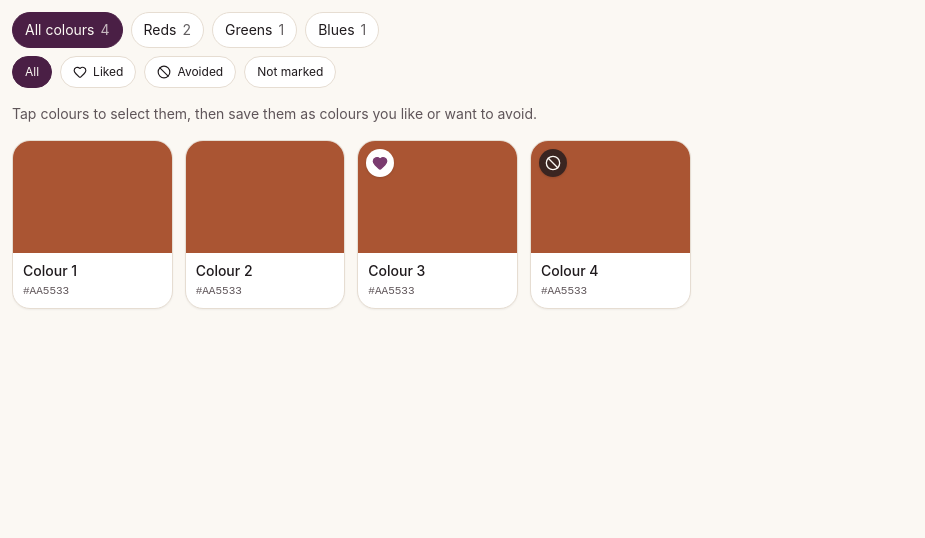
Test: ColourAlbum › shows the reasons when one colour is selected
Click the checkbox named "Colour 2,".
click(265, 224)  # box left=185, top=140, right=345, bottom=308
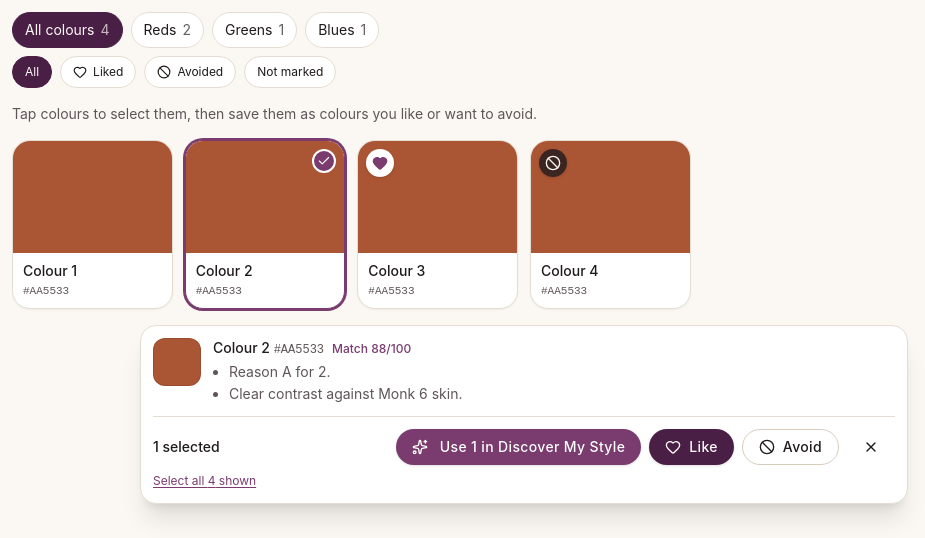
Check: the list item "Reason A for 2." is shown, box left=229, top=362, right=330, bottom=380
Check: the text "Match 88/100" is shown, box left=332, top=340, right=411, bottom=356
